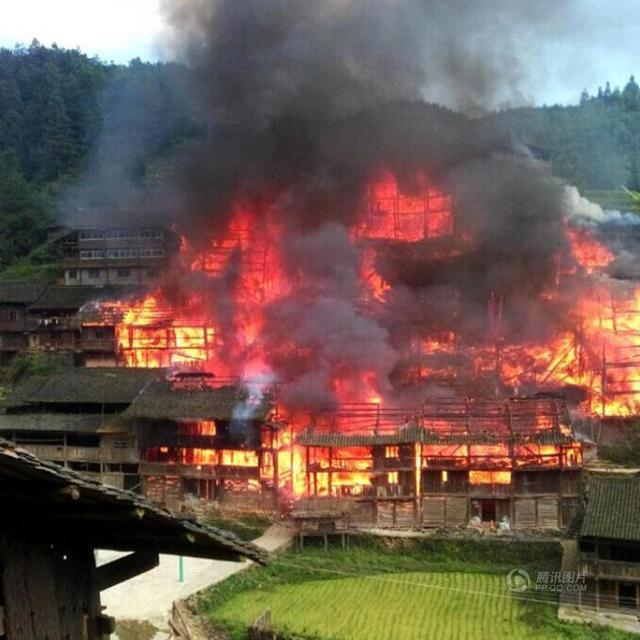fire: (105, 140, 632, 518)
smoke: (133, 19, 553, 189)
